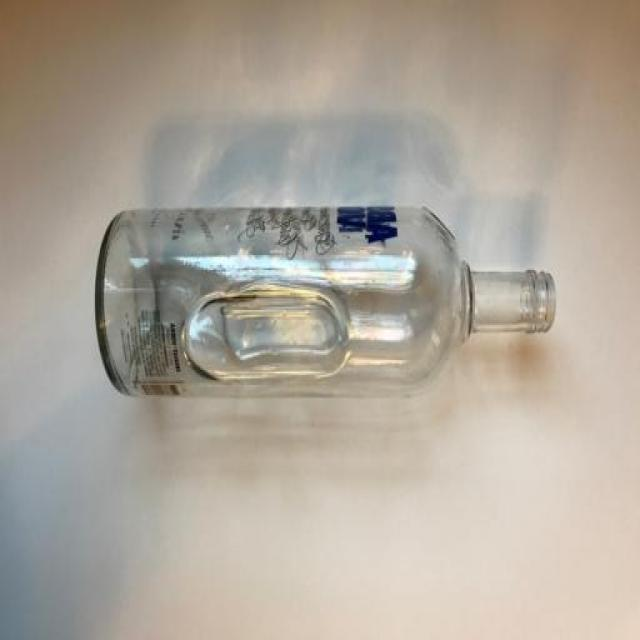glass: (90, 204, 560, 401)
